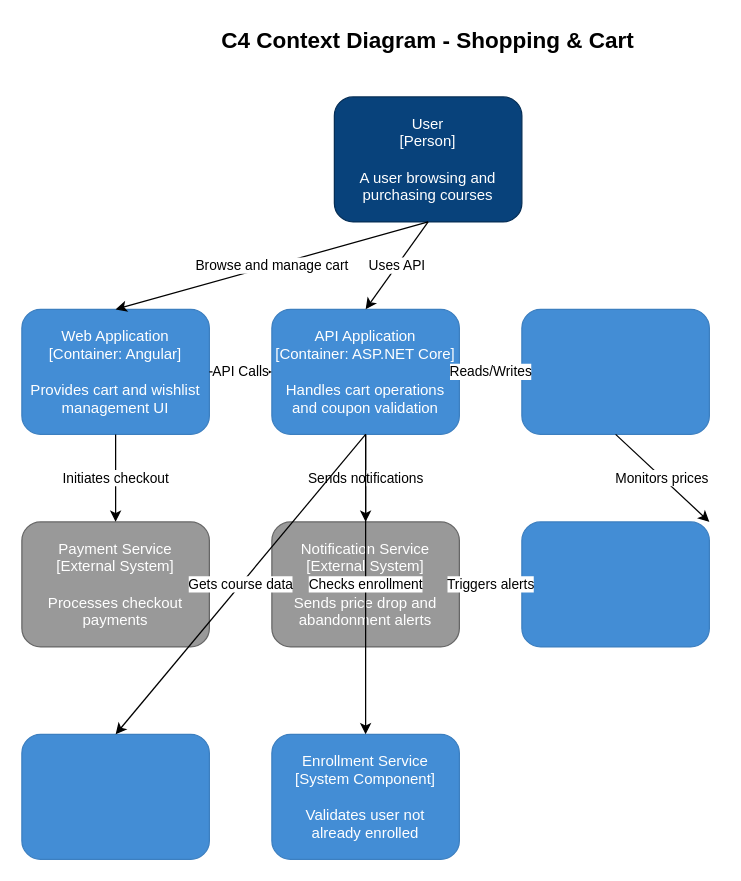
Image size: 741x881. Some labels were removed from this diagram. The shapes that lost their labels are listed below. From the top down, each one's centre as x and y in pixels, then its label:
At pixel 615 371: "Database [Container: SQL Server] Stores carts, wishlist, and coupons".
At pixel 615 584: "Background Jobs [Container: Hangfire] Price monitoring, abandonment tracking".
At pixel 115 796: "Course Management [System Component] Provides course data and availability".
